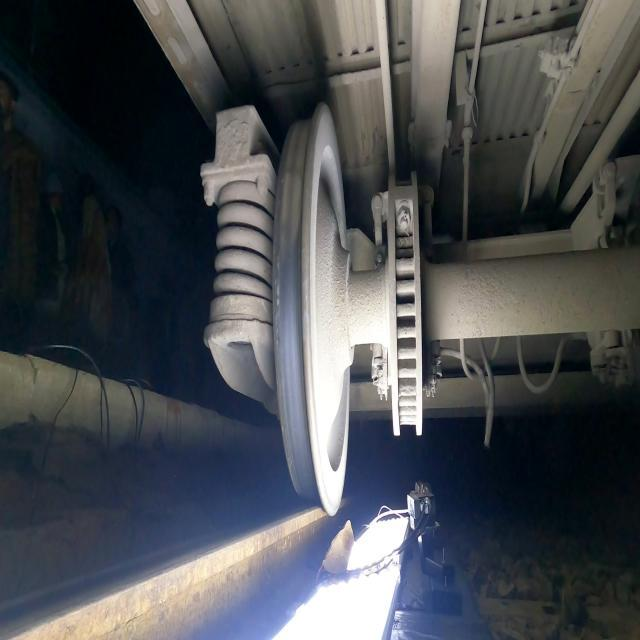Cracks-Scratches: (273, 280, 282, 351)
Shelling: (281, 121, 310, 255)
Wheel: (272, 102, 354, 516)
